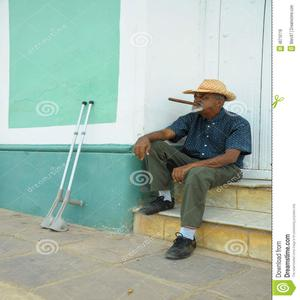cigarette: (167, 95, 201, 108)
